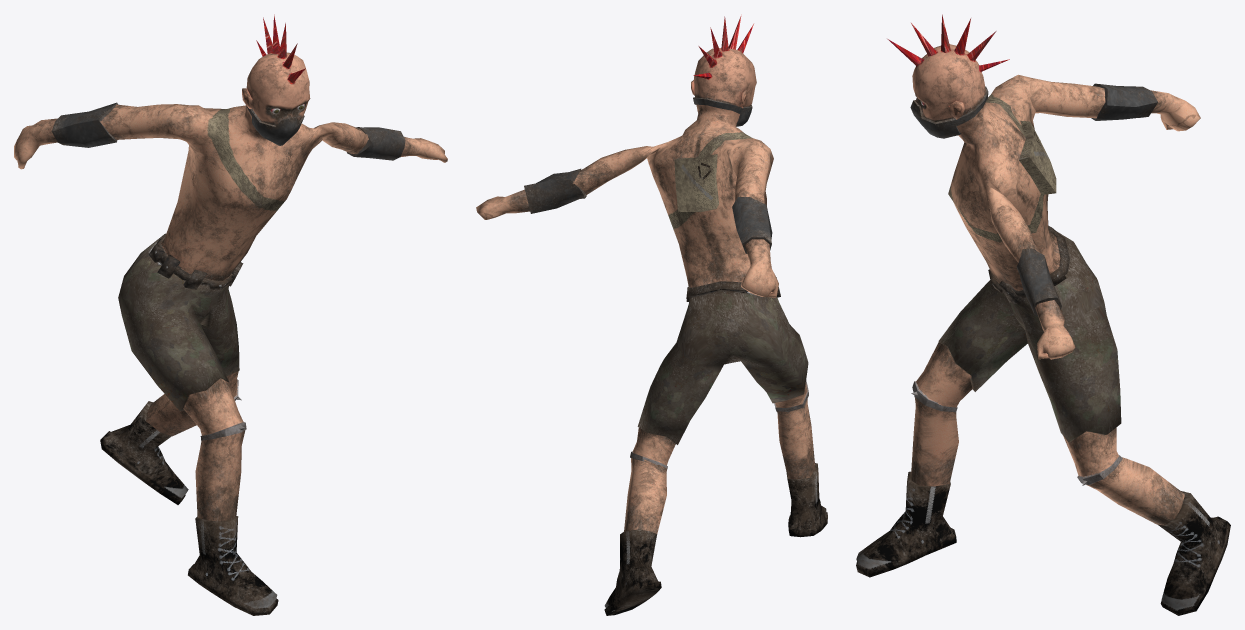
The model's file is Anim_arma_c_npc2.0032.obj.
3 views of the same model, side by side, from view 1: azimuth 30°, elevation 25°; view 2: azimuth 150°, elevation 25°; view 3: azimuth 270°, elevation 25° (orthographic). The views are drawn at different scales.
Parts seen in each view (by area): view 1: polySurface1; view 2: polySurface1; view 3: polySurface1.
Boxes of the visible parts, box(x1,y1,x2,y2) form: polySurface1: box(14, 14, 447, 615); polySurface1: box(476, 14, 827, 615); polySurface1: box(856, 14, 1230, 615).
Bounding box in the file's own units: 6.59 × 9.48 × 5.38.
